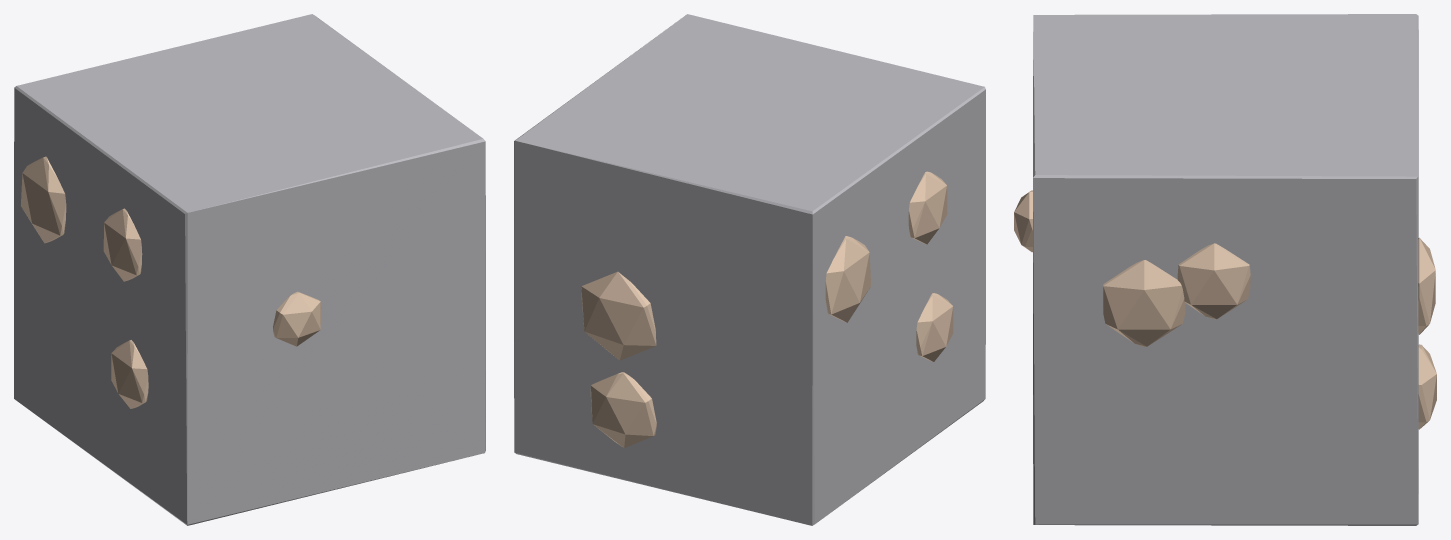
File: ore_iron.glb
3 views of the same model, side by side, from view 1: azimuth 30°, elevation 25°; view 2: azimuth 150°, elevation 25°; view 3: azimuth 270°, elevation 25° (orthographic). The views are drawn at different scales.
Visible parts, largest first — view 1: ore_iron; view 2: ore_iron; view 3: ore_iron.
Part boxes in pixels (x1,y1,x2,y2): ore_iron: [14, 14, 485, 525]; ore_iron: [514, 14, 985, 525]; ore_iron: [1014, 14, 1436, 525].
Size of the model in its own units: 1.09 by 1 by 1.09.
